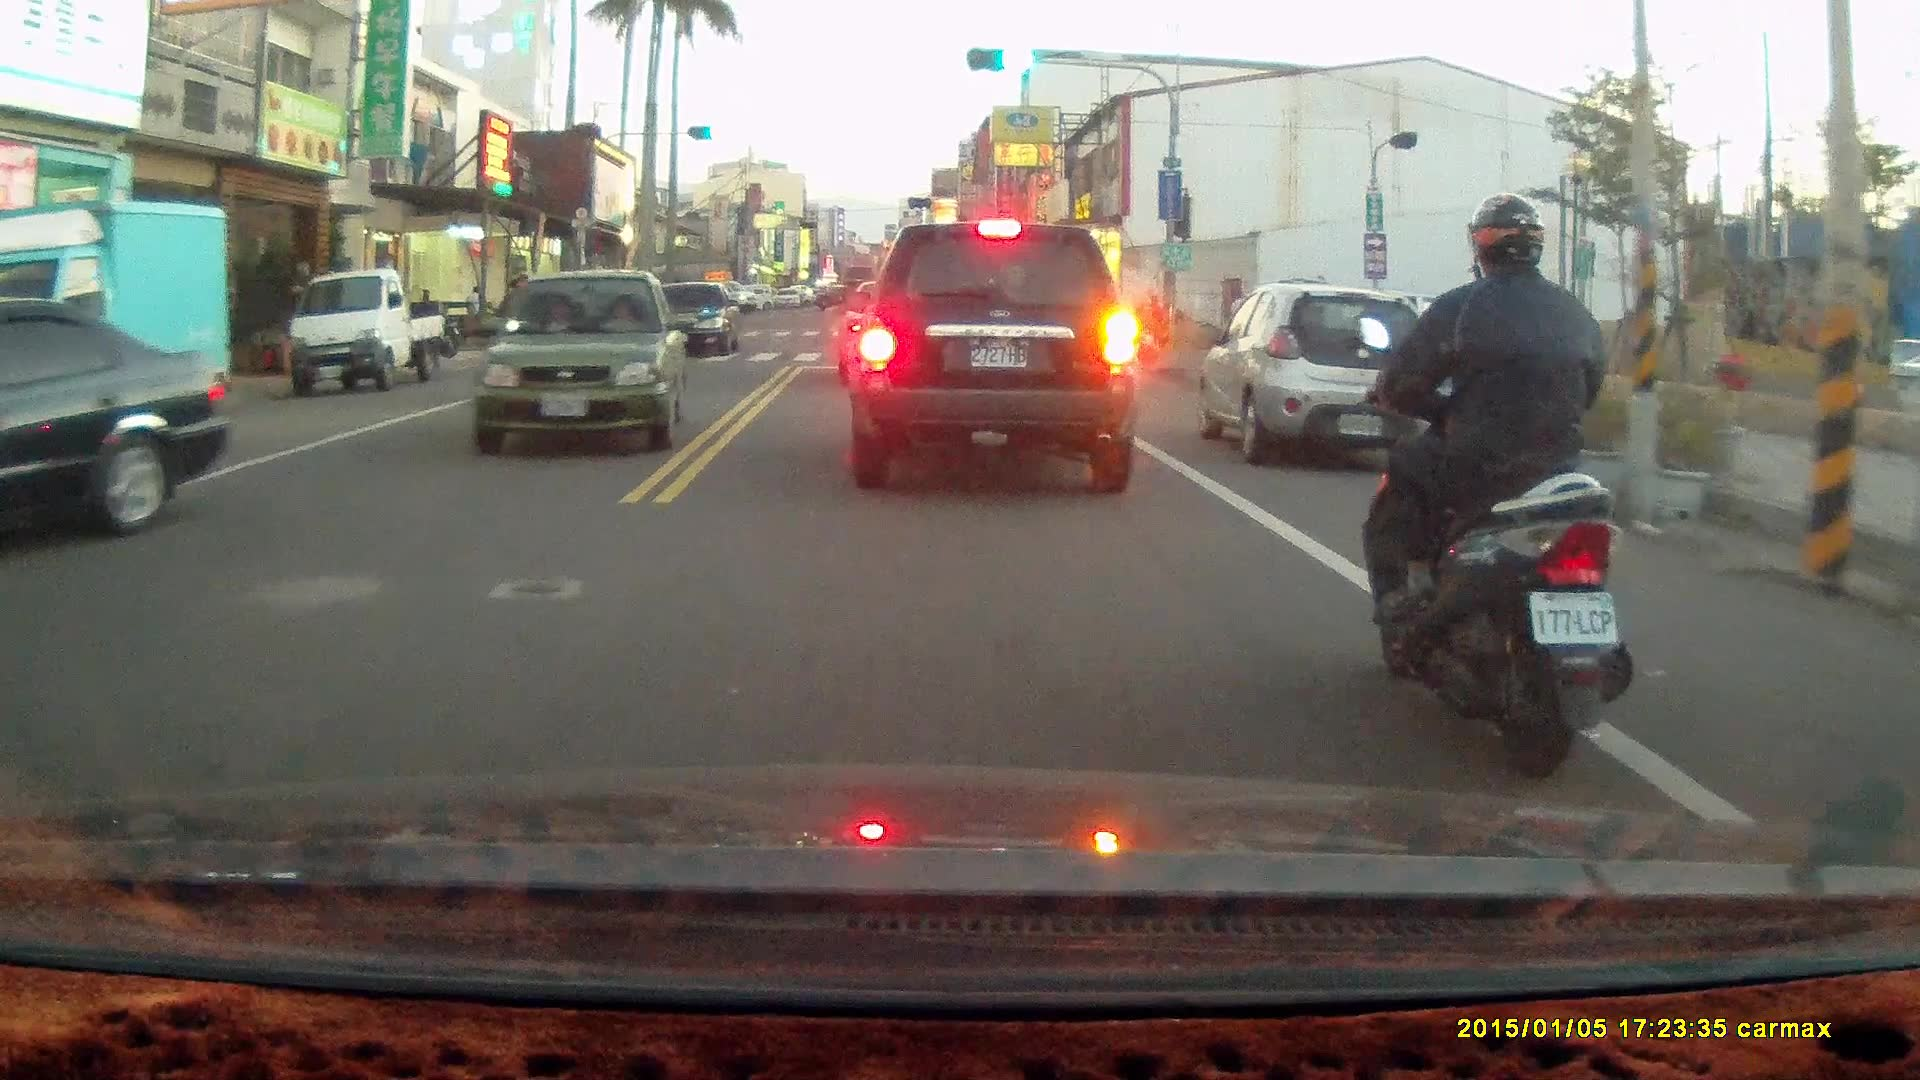rider: (1354, 196, 1636, 786), (1124, 293, 1167, 372)
vehicle: (849, 223, 1142, 496), (1, 295, 229, 550), (2, 198, 235, 425), (1196, 285, 1458, 472), (474, 268, 687, 452), (281, 268, 448, 399), (641, 281, 742, 361)
